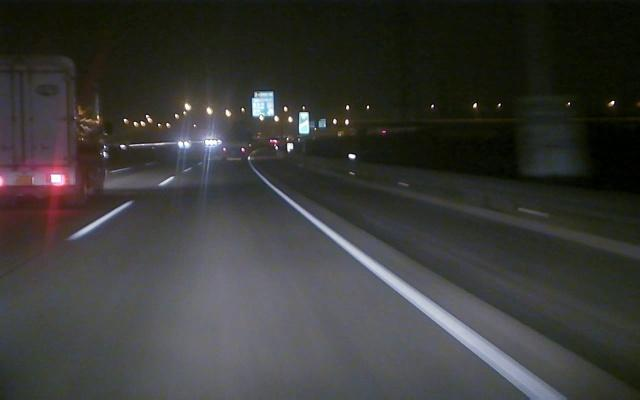lane: (267, 182, 569, 399), (65, 179, 170, 241)
